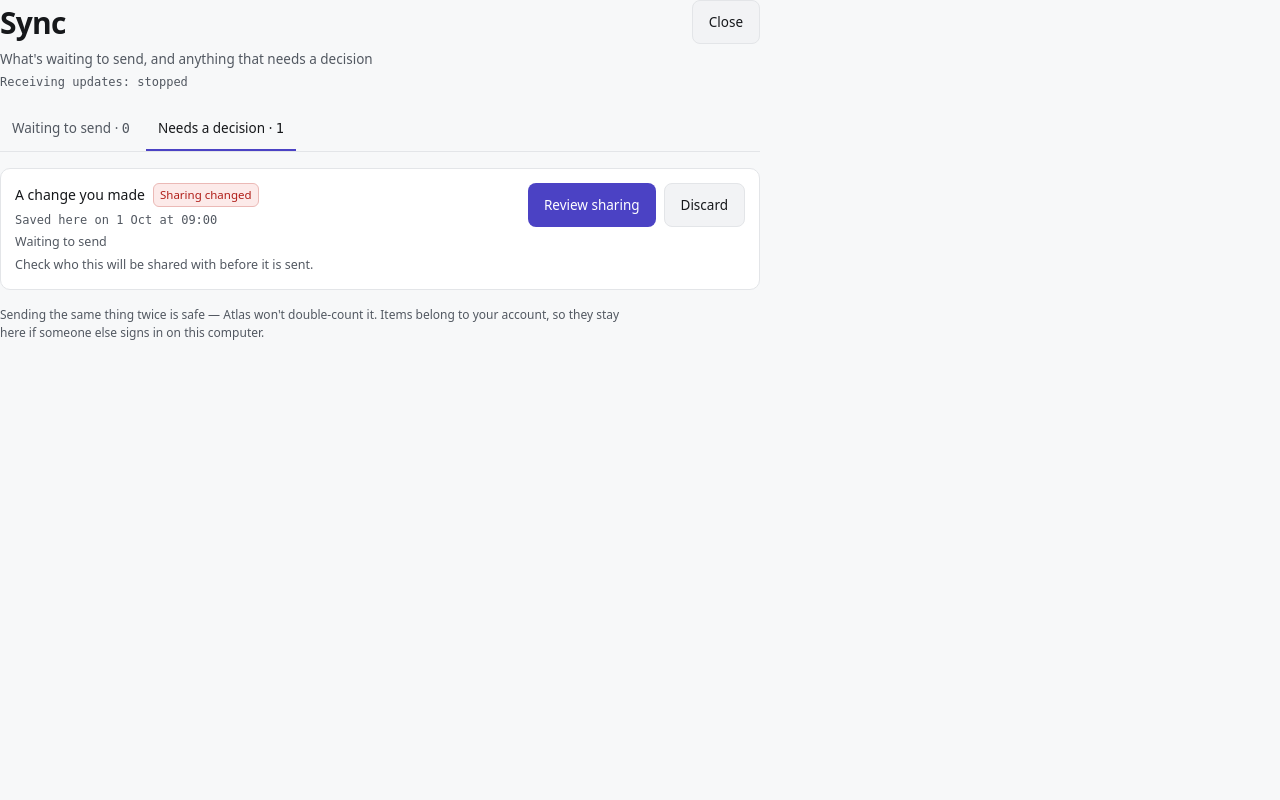
Test: the /sync queue's defaults-review rows (A11) › Review sharing opens the review for that draft
This screenshot has width=1280, height=800.
Step 1. Click the button "Review sharing" → {"x": 592, "y": 205}, box [528,183,656,227]
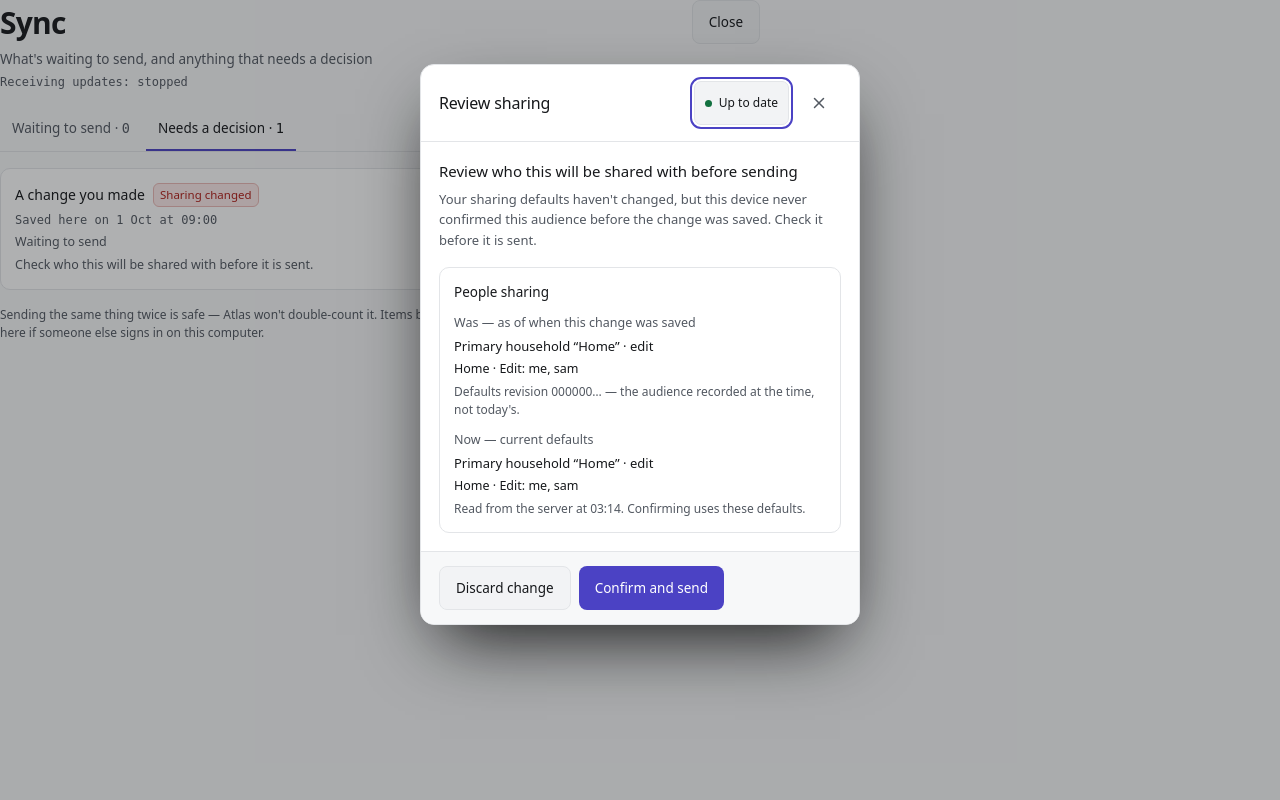
Expected: the dialog "Review sharing" is shown, [420,64,860,625]
Expected: the text "Your sharing defaults haven't changed, but this device never confirmed this audience before the change was saved. Check " is shown, [439,190,823,249]
